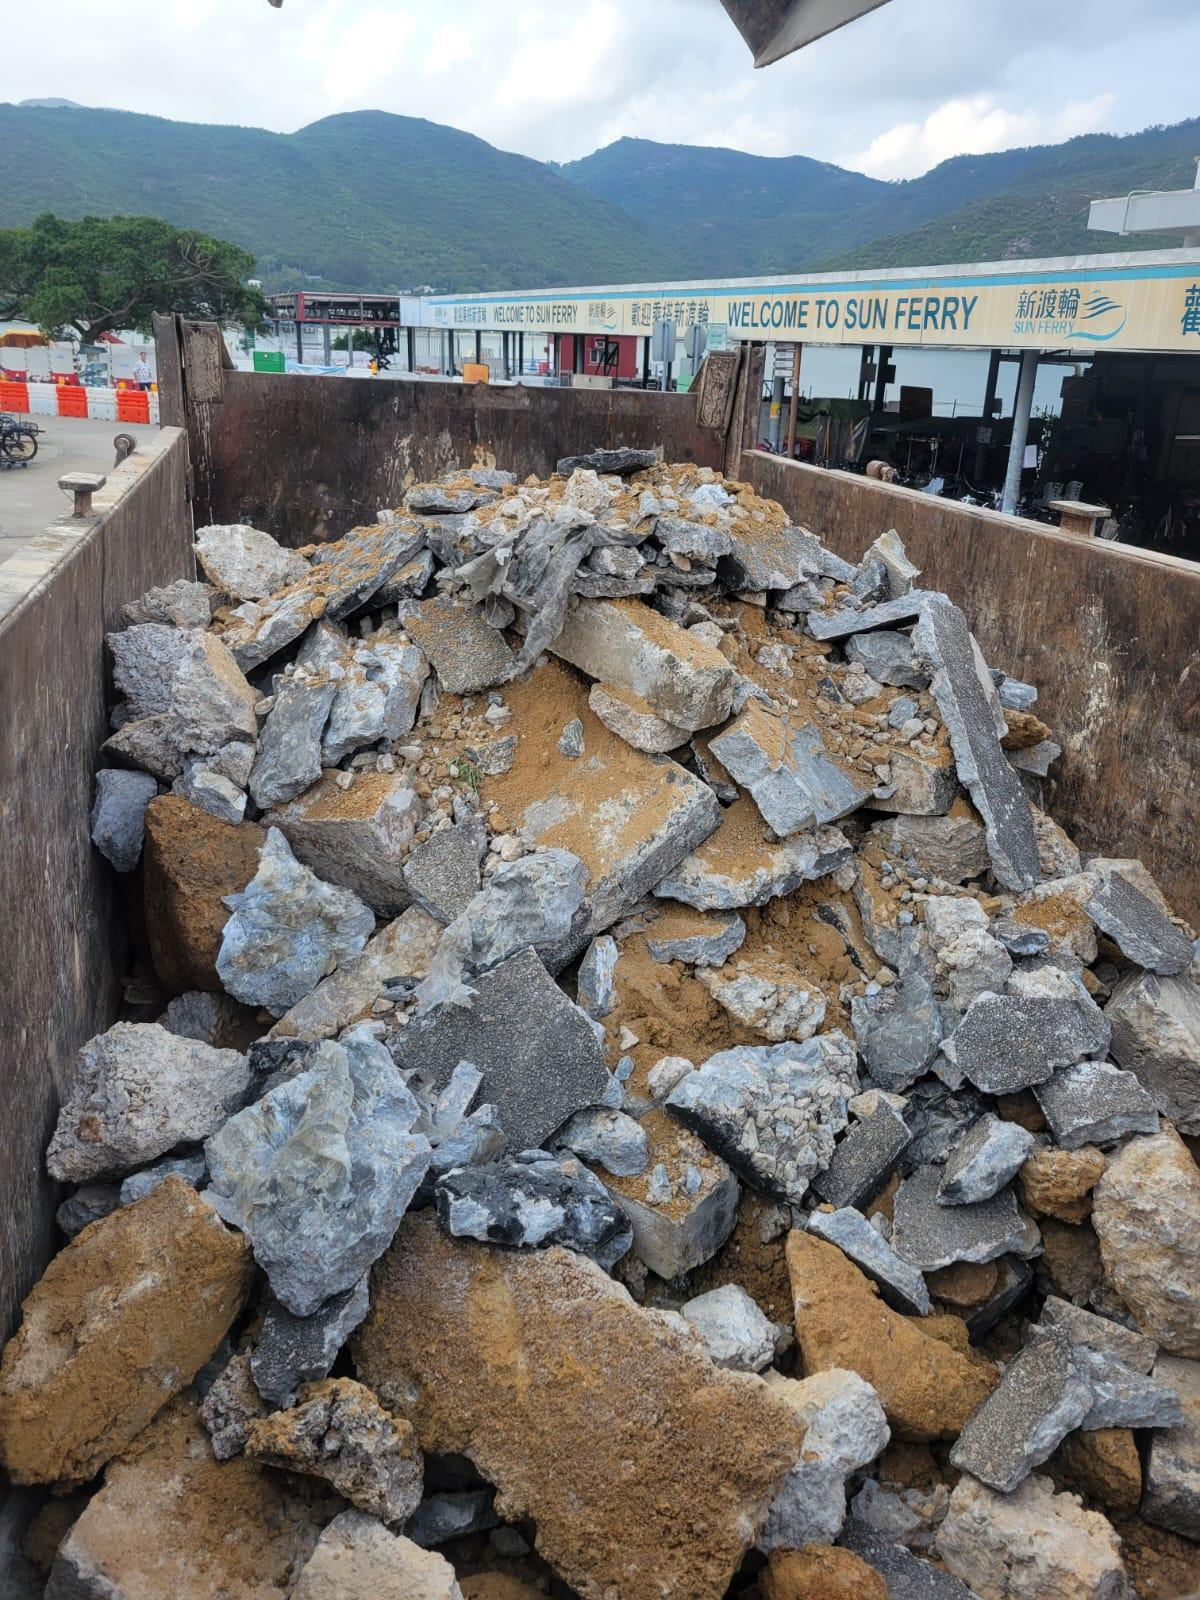dry: (3, 472, 1200, 1600)
